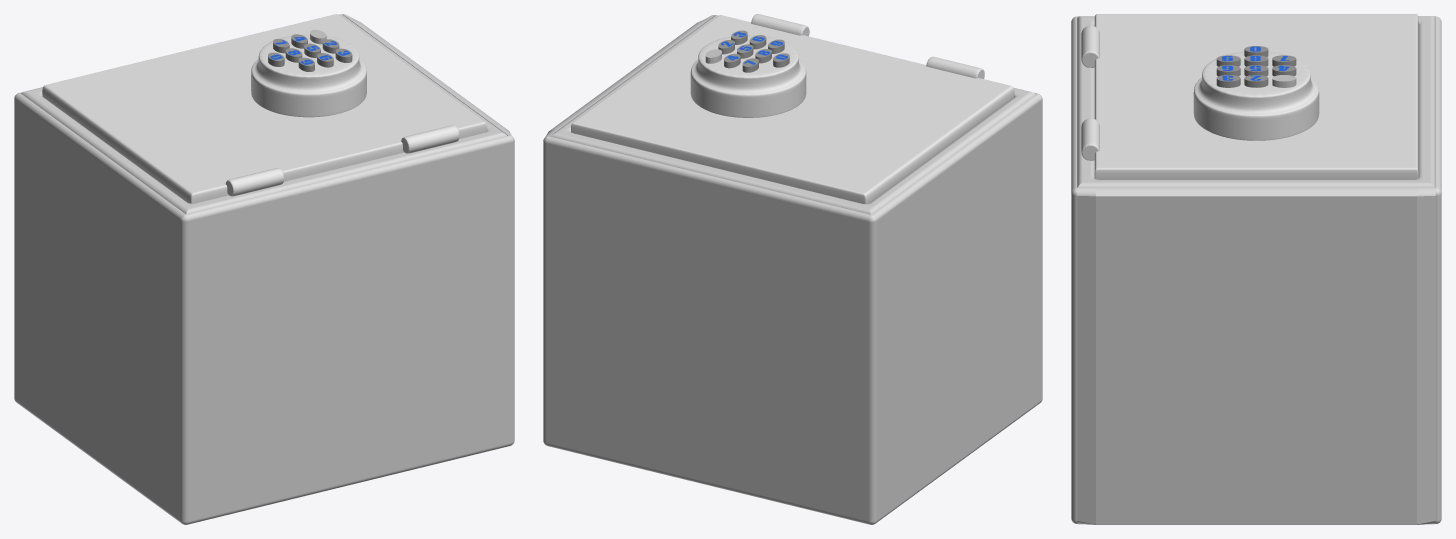
Rendered from Safe.fbx.
The picture shows the model from 3 angles, left to right: view 1: azimuth 30°, elevation 25°; view 2: azimuth 150°, elevation 25°; view 3: azimuth 270°, elevation 25°; orthographic projection. The views are drawn at different scales.
Visible parts, largest first — view 1: Safe, Safe door, Pin pad, HInge.001, HInge; view 2: Safe, Safe door, Pin pad, HInge.001, HInge; view 3: Safe, Safe door, Pin pad, HInge, HInge.001.
Part boxes in pixels (x1,y1,x2,y2): Safe: (14, 14, 514, 524); Safe door: (42, 14, 486, 203); Pin pad: (251, 34, 366, 117); HInge.001: (225, 168, 283, 196); HInge: (401, 125, 459, 153); Safe: (543, 15, 1042, 524); Safe door: (571, 15, 1014, 203); Pin pad: (690, 35, 806, 117); HInge.001: (926, 56, 984, 78); HInge: (751, 14, 809, 36); Safe: (1071, 16, 1441, 524); Safe door: (1094, 14, 1418, 179); Pin pad: (1193, 51, 1319, 140); HInge: (1081, 118, 1099, 160); HInge.001: (1081, 25, 1099, 67).
Bounding box in the file's own units: 0.9102 × 0.9414 × 0.8.
